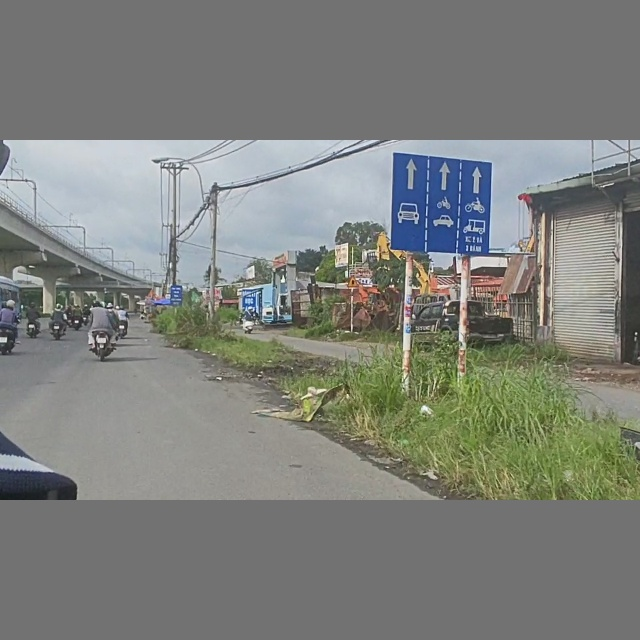R.415a: (387, 149, 491, 256)
W.207: (343, 275, 362, 288)
